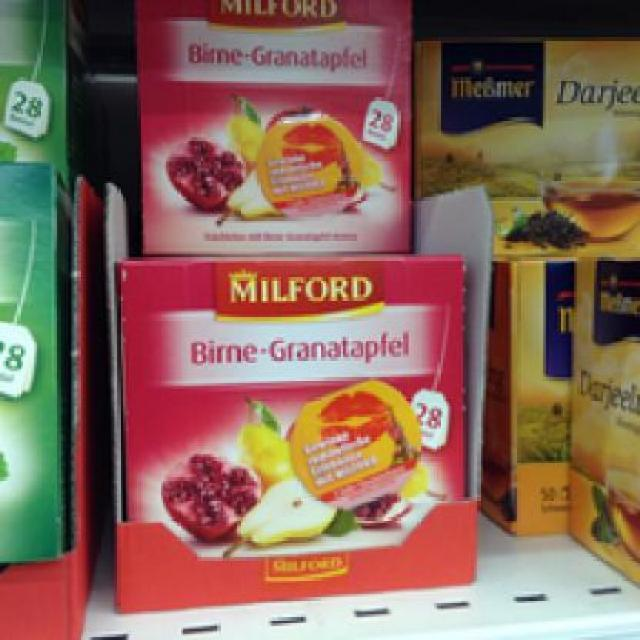Tea: (110, 251, 467, 560), (130, 0, 415, 255), (414, 34, 637, 257)
